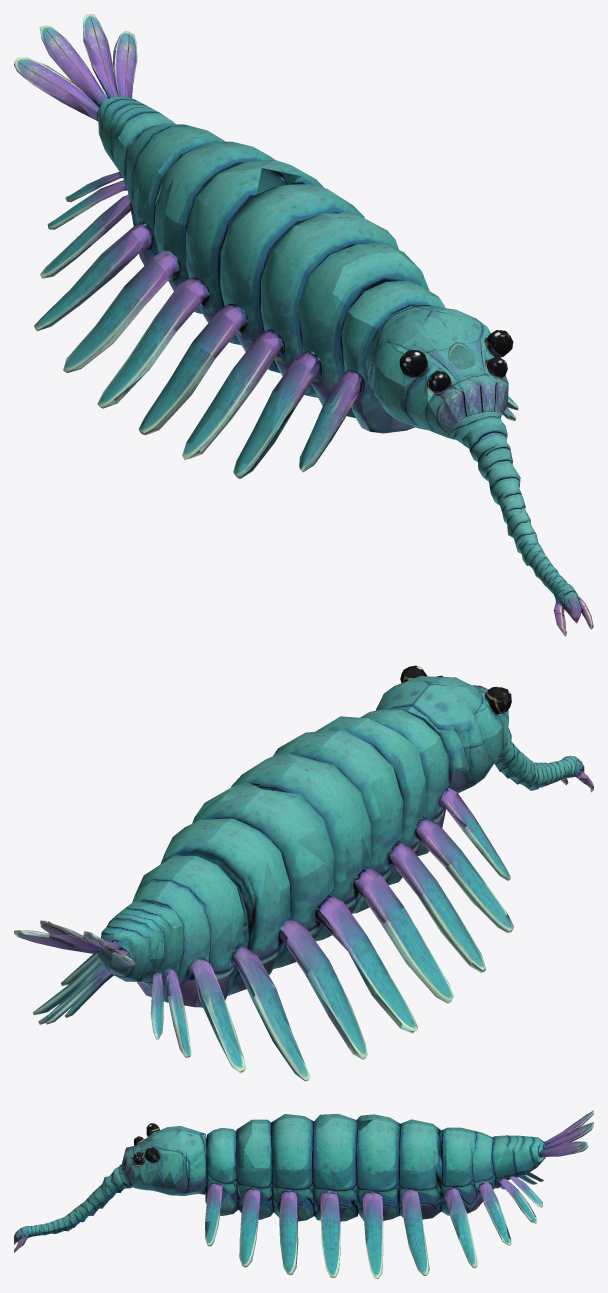
The model's file is CRT-003.glb.
3 views of the same model, one above another, from view 1: azimuth 30°, elevation 25°; view 2: azimuth 150°, elevation 25°; view 3: azimuth 270°, elevation 25° (orthographic). The views are drawn at different scales.
Visible parts, largest first — view 1: mesh_node; view 2: mesh_node; view 3: mesh_node.
Part boxes in pixels (x1,y1,x2,y2): mesh_node: (14, 14, 593, 636); mesh_node: (14, 665, 593, 1081); mesh_node: (14, 1110, 593, 1278).
Size of the model in its own units: 0.3633 by 0.2559 by 1.
1 material, 1 textured.
